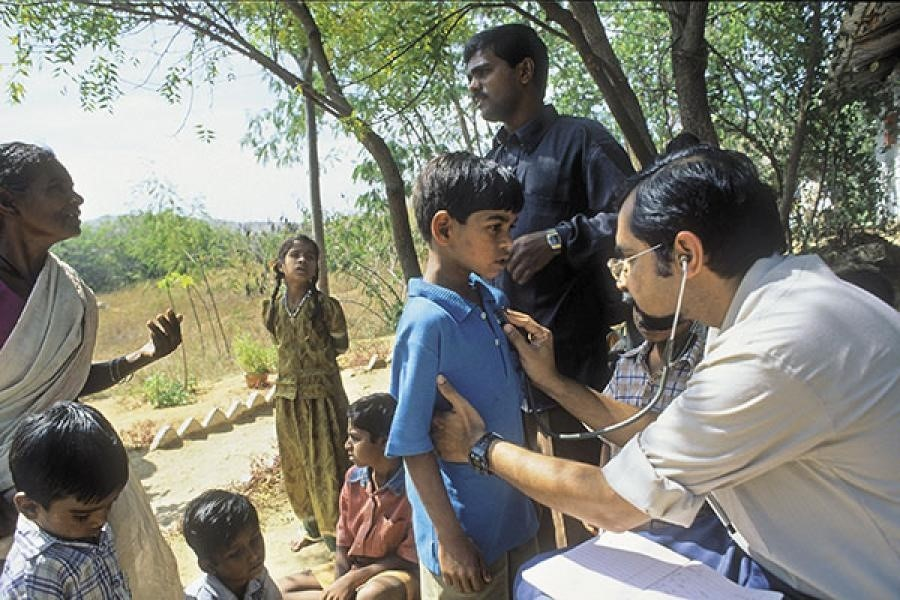face_no_mask: (605, 146, 783, 337), (24, 402, 129, 545), (418, 149, 525, 280), (463, 26, 559, 123), (2, 142, 93, 244), (183, 490, 273, 585), (346, 393, 412, 480), (274, 234, 326, 293)
